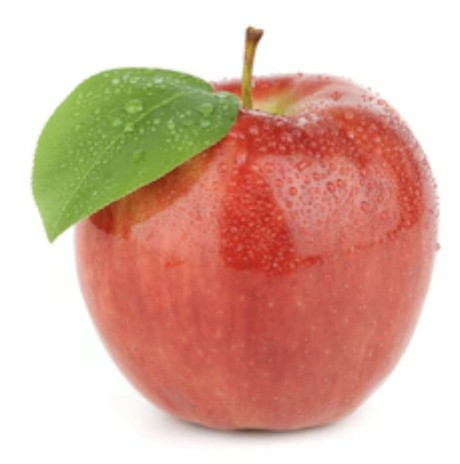fresh_apple: (63, 69, 445, 437)
